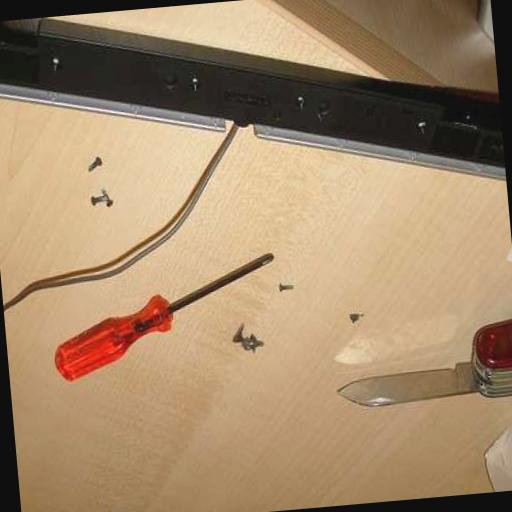screwdriver: (48, 252, 284, 384)
